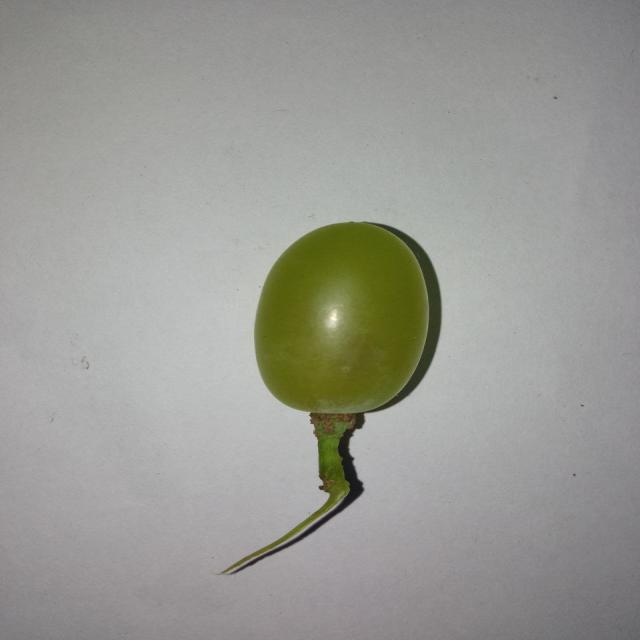fresh_grape: (258, 220, 430, 480)
